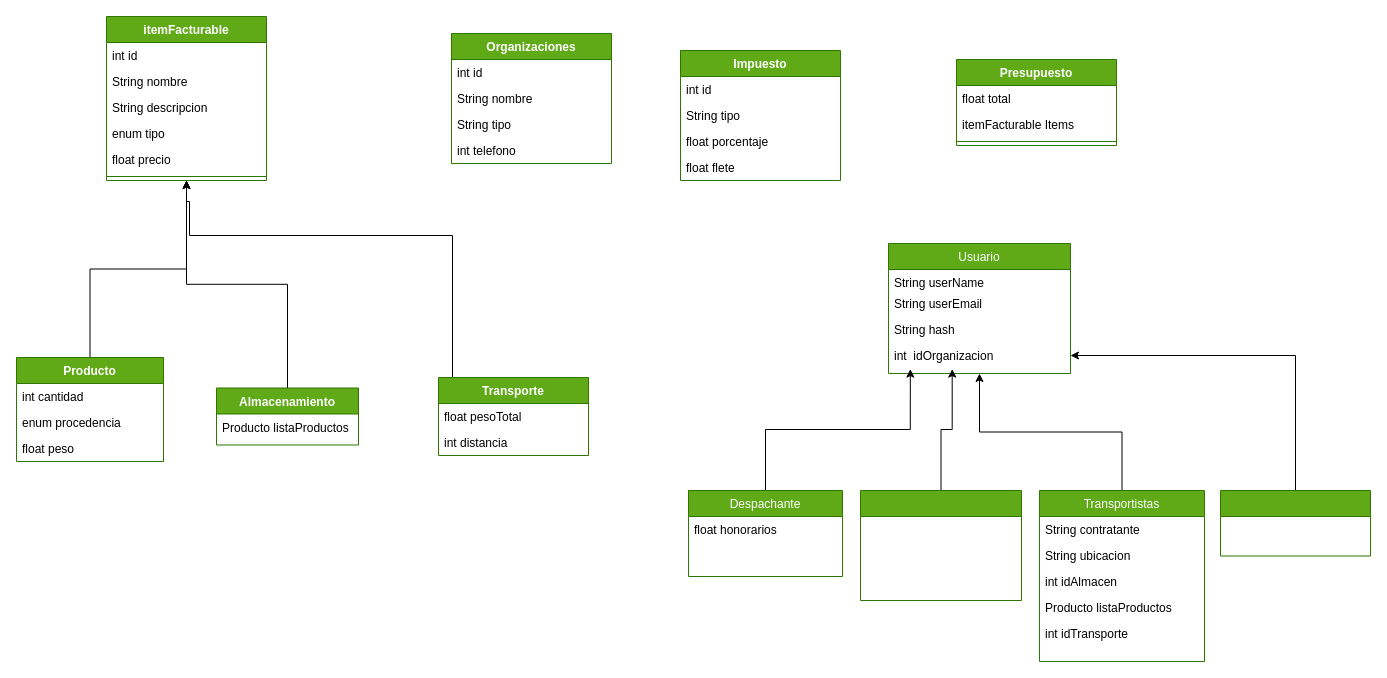
This 1387x678 diagram has some shape labels left out. The centre of each missing label's shape, as x and y in pixels:
"Administrador" belongs at point 1295,523.
"Auditores" belongs at point 941,545.
